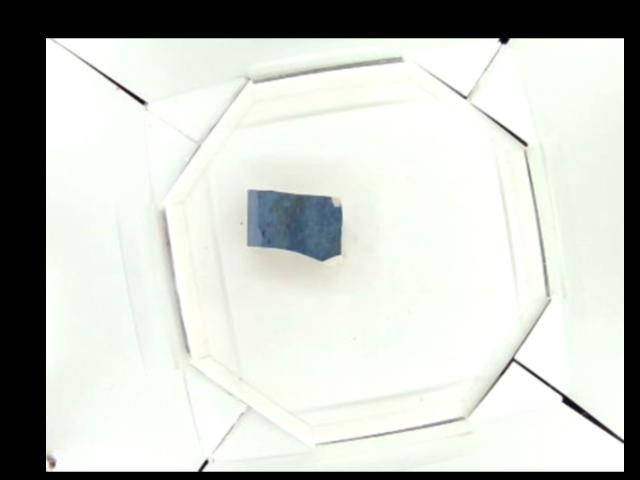China: (245, 186, 342, 262)
